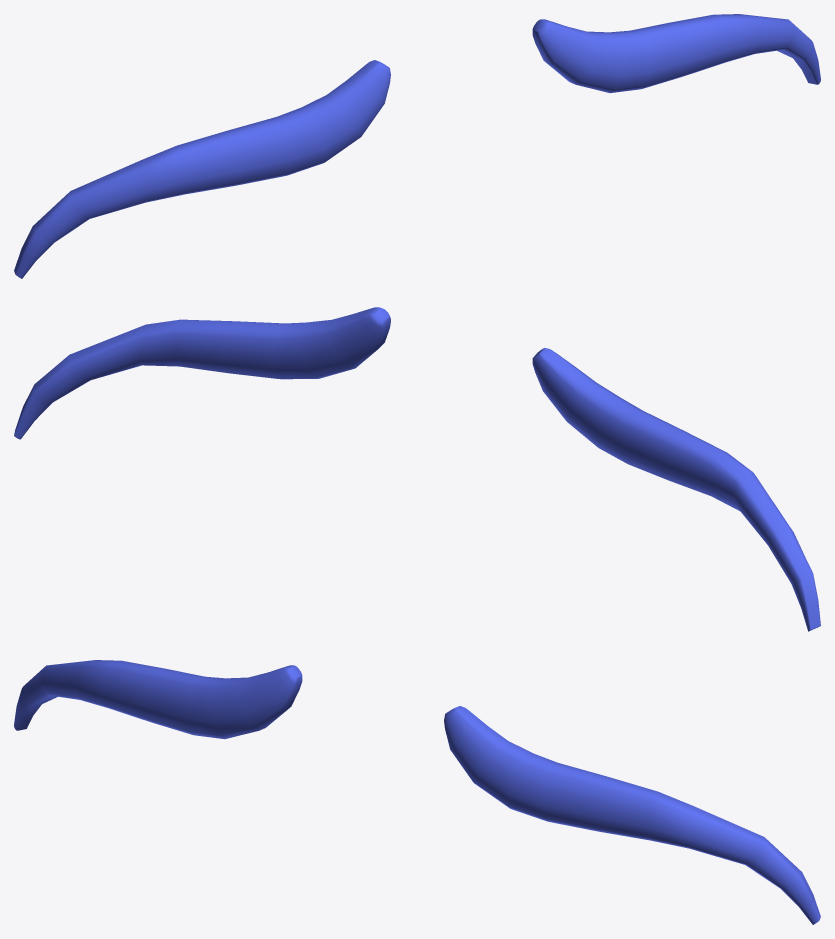
File: Eyebrows_21_03.fbx
The picture shows the model from 3 angles, top to bottom: view 1: azimuth 30°, elevation 25°; view 2: azimuth 150°, elevation 25°; view 3: azimuth 330°, elevation 25°; orthographic projection.
Visible parts, largest first — view 1: Eyebrows_21_03; view 2: Eyebrows_21_03; view 3: Eyebrows_21_03.
Boxes of the visible parts, x1,y1,x2,y2 form: Eyebrows_21_03: (14, 14, 820, 278); Eyebrows_21_03: (14, 307, 820, 631); Eyebrows_21_03: (14, 660, 820, 924).
Size of the model in its own units: 18.62 by 3.81 by 2.44.
